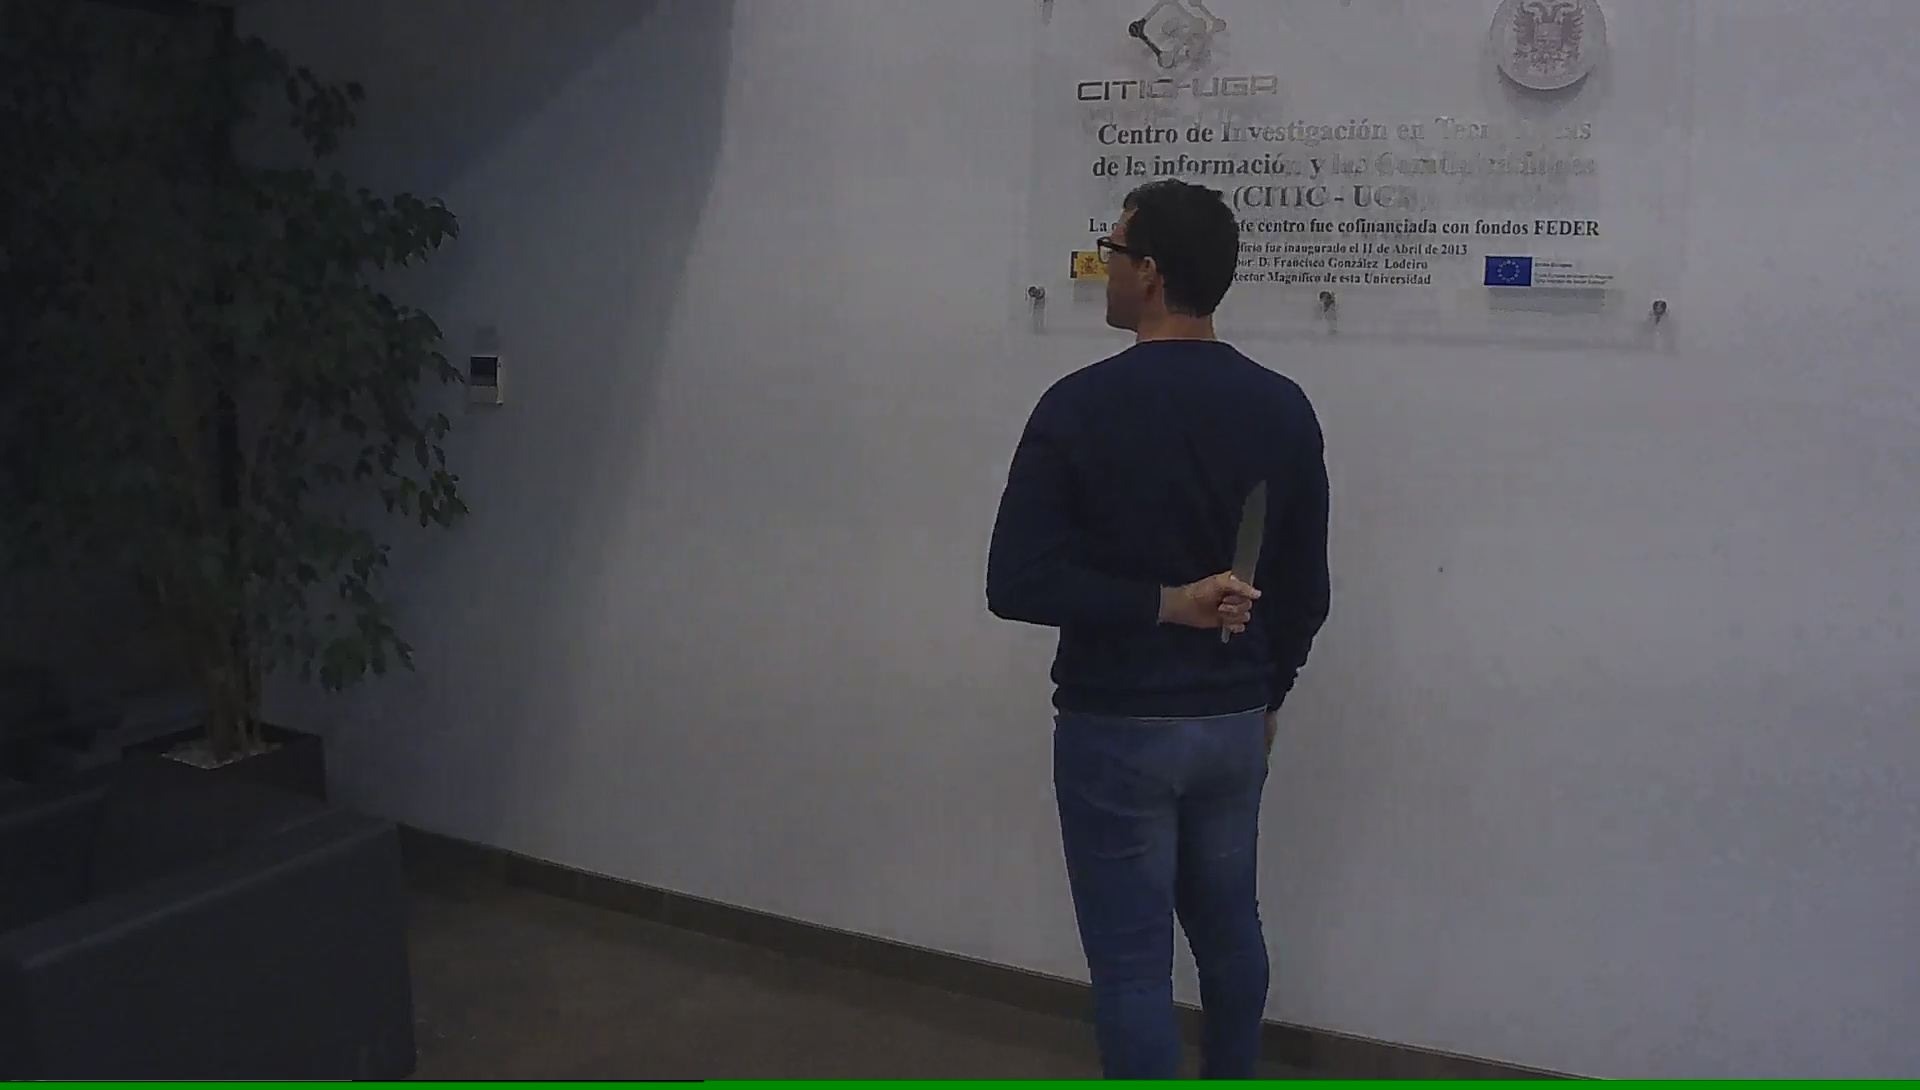knife: (1200, 464, 1280, 648)
